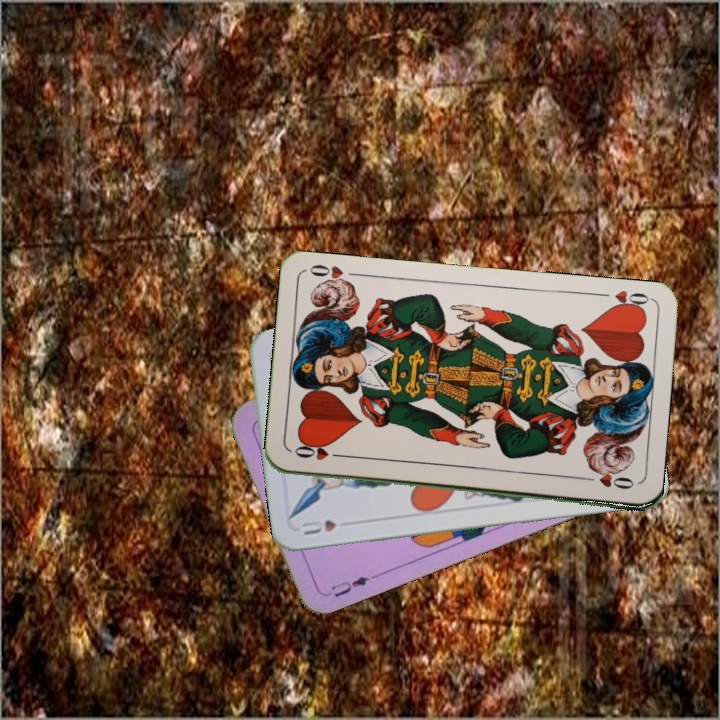EU: (326, 571, 378, 600)
HO: (594, 286, 653, 315), (290, 444, 348, 463)
HU: (297, 516, 339, 538)
